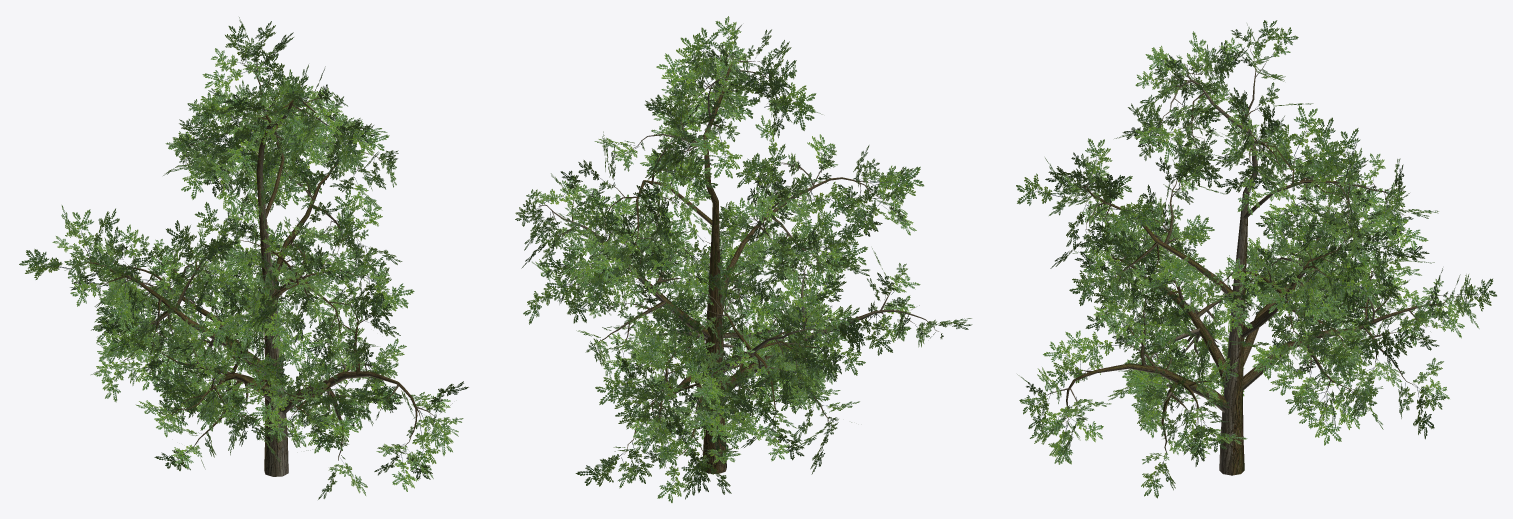
The model's file is ash_coarse.glb.
The picture shows the model from 3 angles, left to right: view 1: azimuth 30°, elevation 25°; view 2: azimuth 150°, elevation 25°; view 3: azimuth 270°, elevation 25°; orthographic projection.
Visible parts, largest first — view 1: Tree; view 2: Tree; view 3: Tree.
Boxes of the visible parts, <box> form: Tree: <box>19,17,468,499</box>; Tree: <box>515,16,972,502</box>; Tree: <box>1016,20,1496,498</box>.
Bounding box in the file's own units: 67.69 × 79.85 × 76.55.
2 materials, 2 textured.
